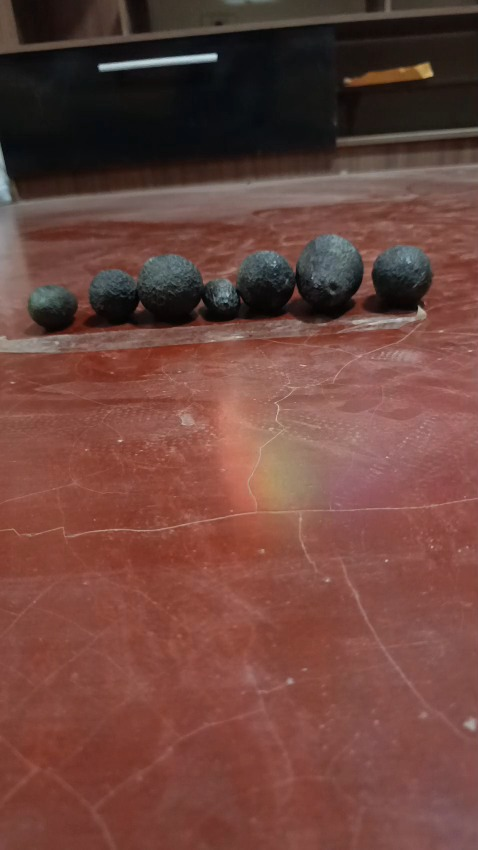Primera: (296, 233, 364, 312), (137, 253, 203, 322)
Segunda: (371, 244, 432, 309), (236, 250, 296, 314), (89, 268, 139, 323)
Tercera: (27, 283, 77, 330), (202, 278, 240, 320)
